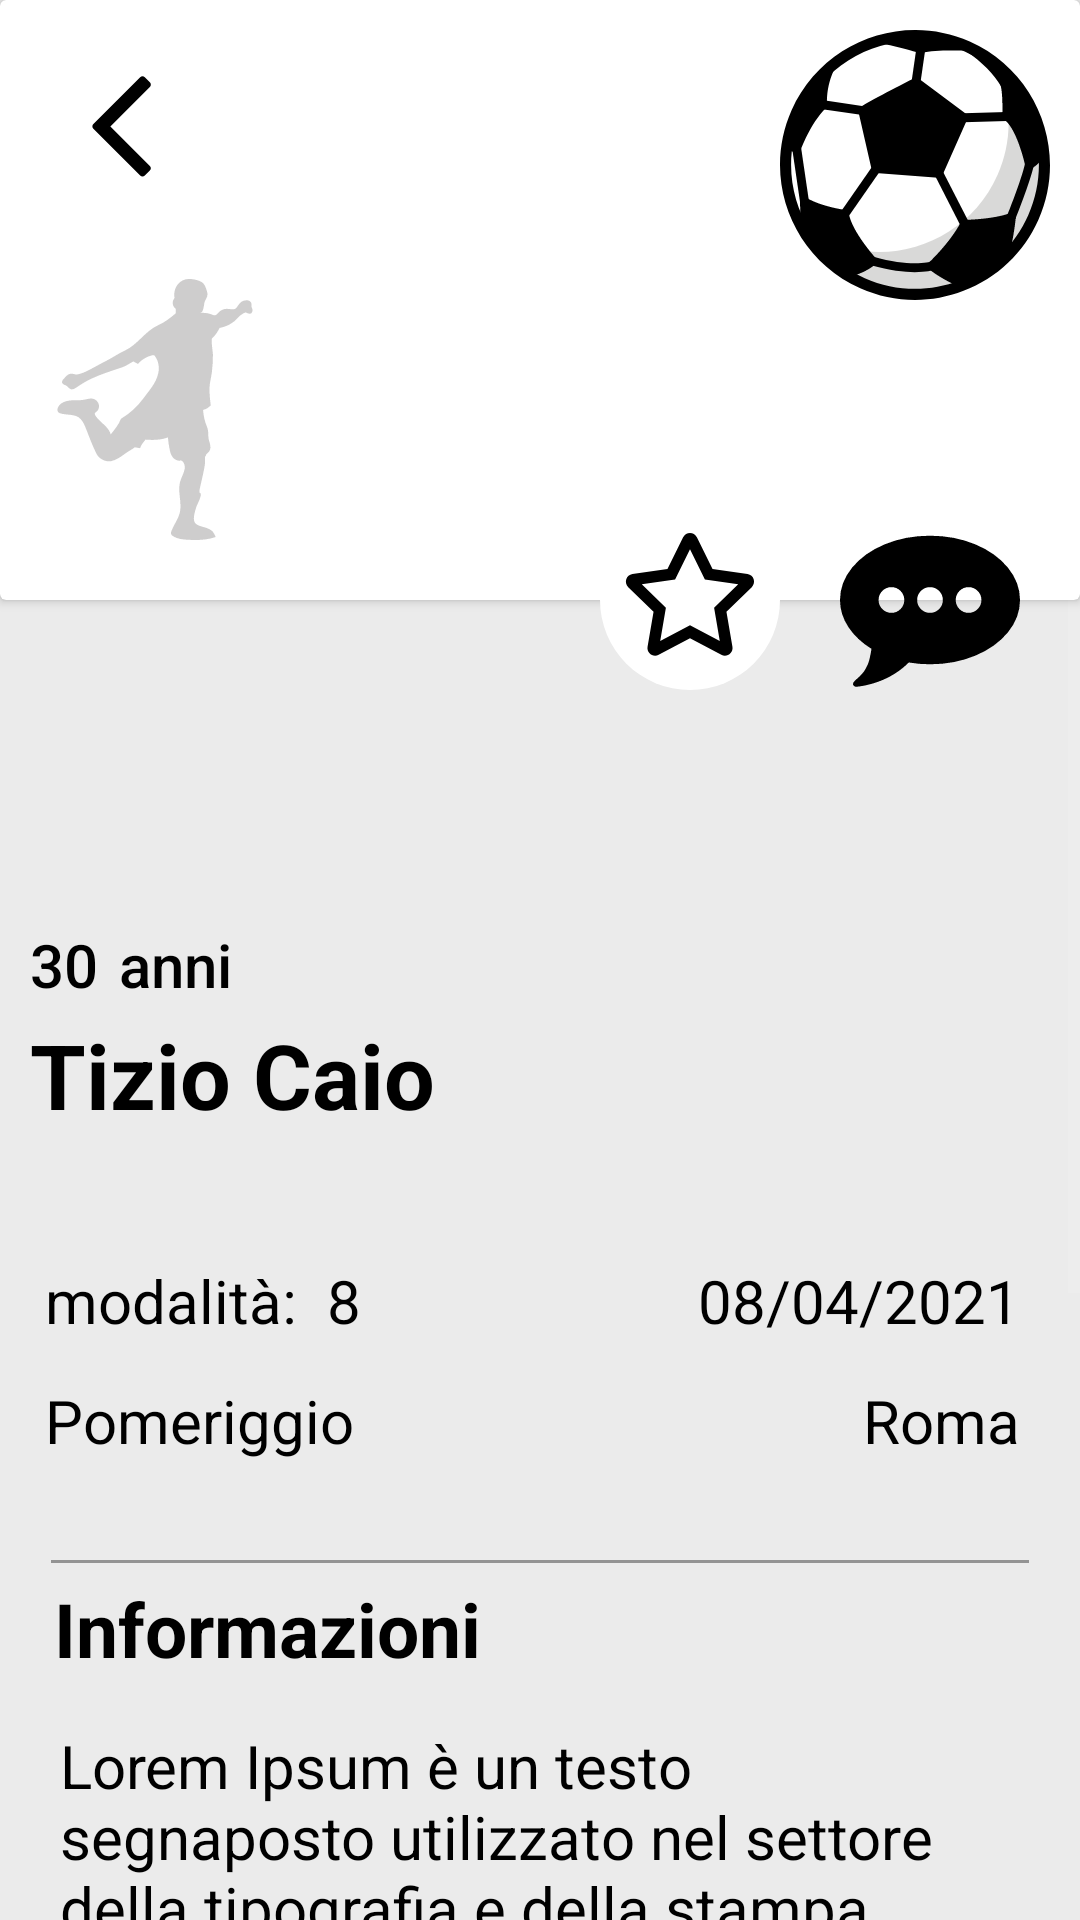

Icon bounding boxes for this 1080w x 1920h phone screenshot, format (x1, y1, x2, y2):
back: (92, 76, 151, 177)
ball soccer: (780, 30, 1050, 300)
player soccer: (57, 279, 253, 540)
